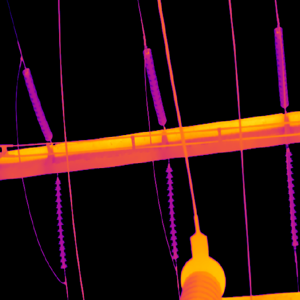insulator: (21, 65, 52, 140), (142, 45, 168, 126), (272, 24, 289, 108), (284, 146, 298, 248), (164, 163, 177, 259), (54, 175, 66, 268)
